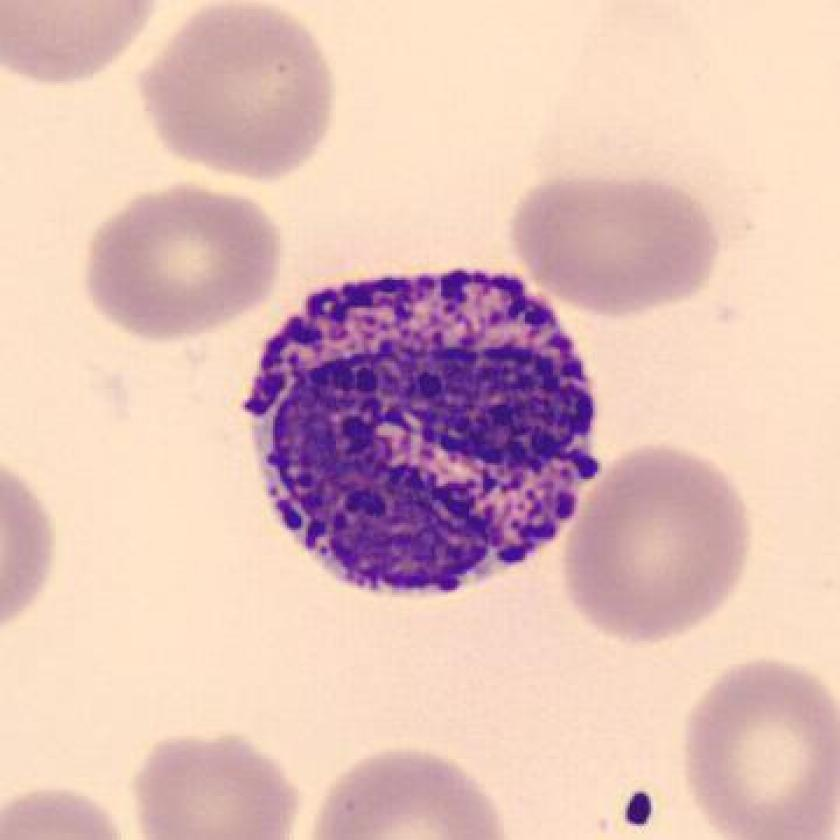basophil: (235, 247, 613, 608)
